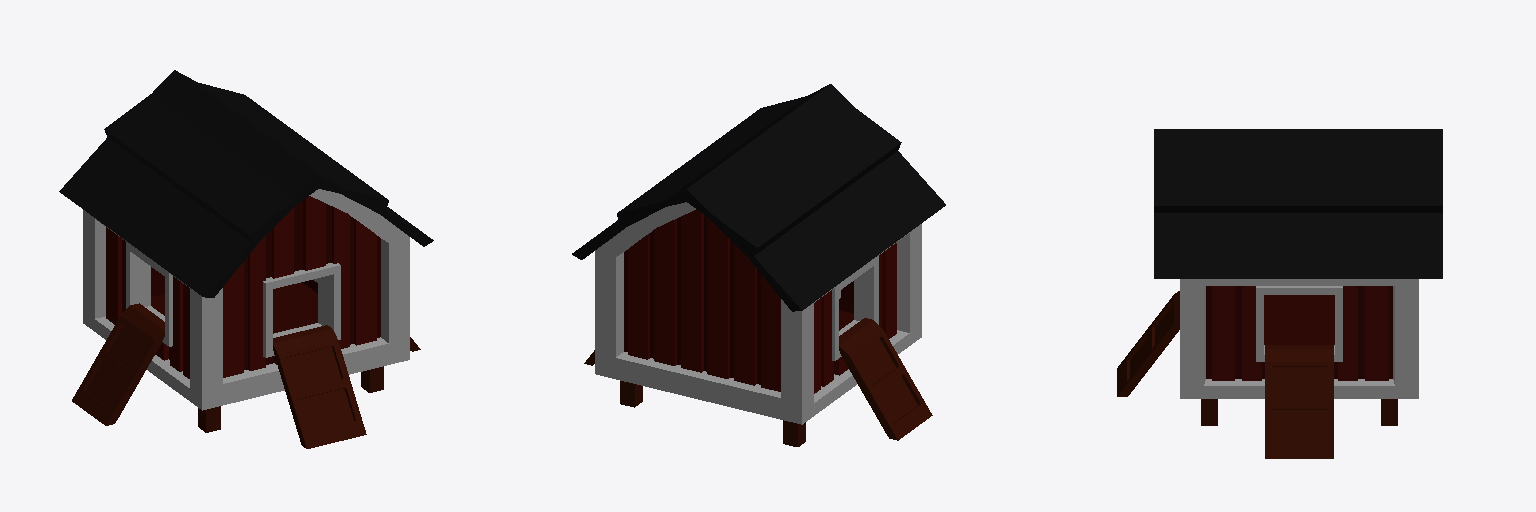
The model's file is ChickenCoop.obj.
The picture shows the model from 3 angles: view 1: azimuth 30°, elevation 25°; view 2: azimuth 150°, elevation 25°; view 3: azimuth 270°, elevation 25°; orthographic projection.
Visible parts, largest first — view 1: ChickenCoop_Cube.015; view 2: ChickenCoop_Cube.015; view 3: ChickenCoop_Cube.015.
Boxes of the visible parts, <box> form: ChickenCoop_Cube.015: <box>59,70,433,448</box>; ChickenCoop_Cube.015: <box>572,84,945,446</box>; ChickenCoop_Cube.015: <box>1117,129,1442,458</box>.
Bounding box in the file's own units: 2.41 × 1.85 × 2.15.